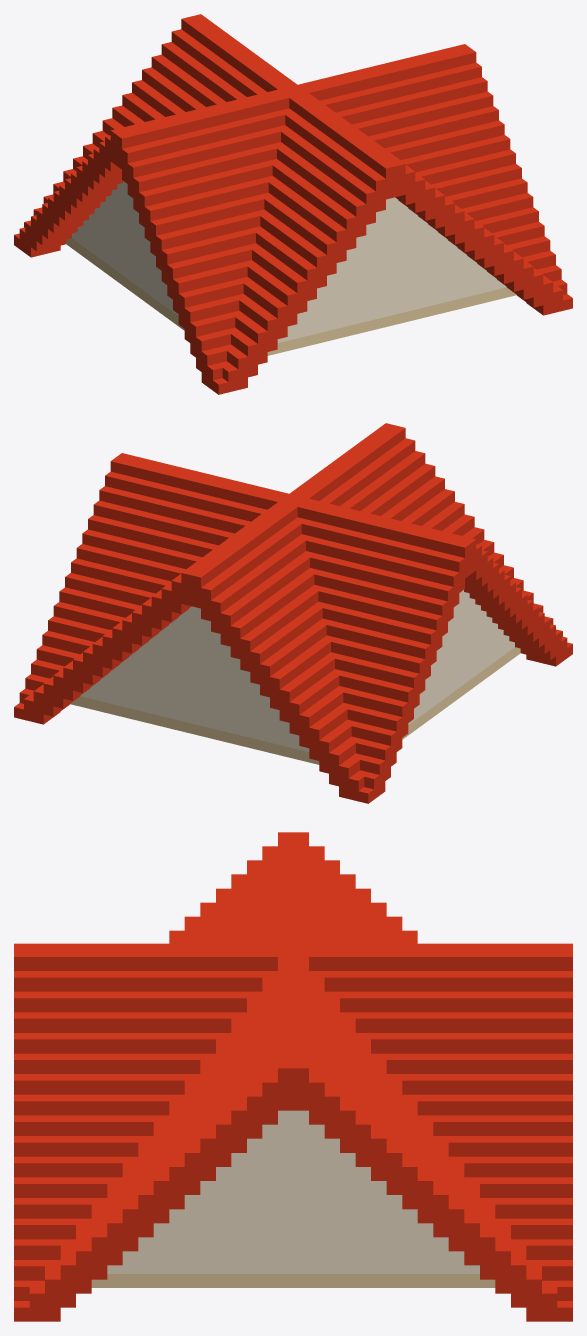
Rendered from roof_X.obj.
The picture shows the model from 3 angles, top to bottom: view 1: azimuth 30°, elevation 25°; view 2: azimuth 150°, elevation 25°; view 3: azimuth 270°, elevation 25°; orthographic projection. The views are drawn at different scales.
Size of the model in its own units: 3.6 by 1.8 by 3.6.
Materials: 1 (1 with a texture image).
